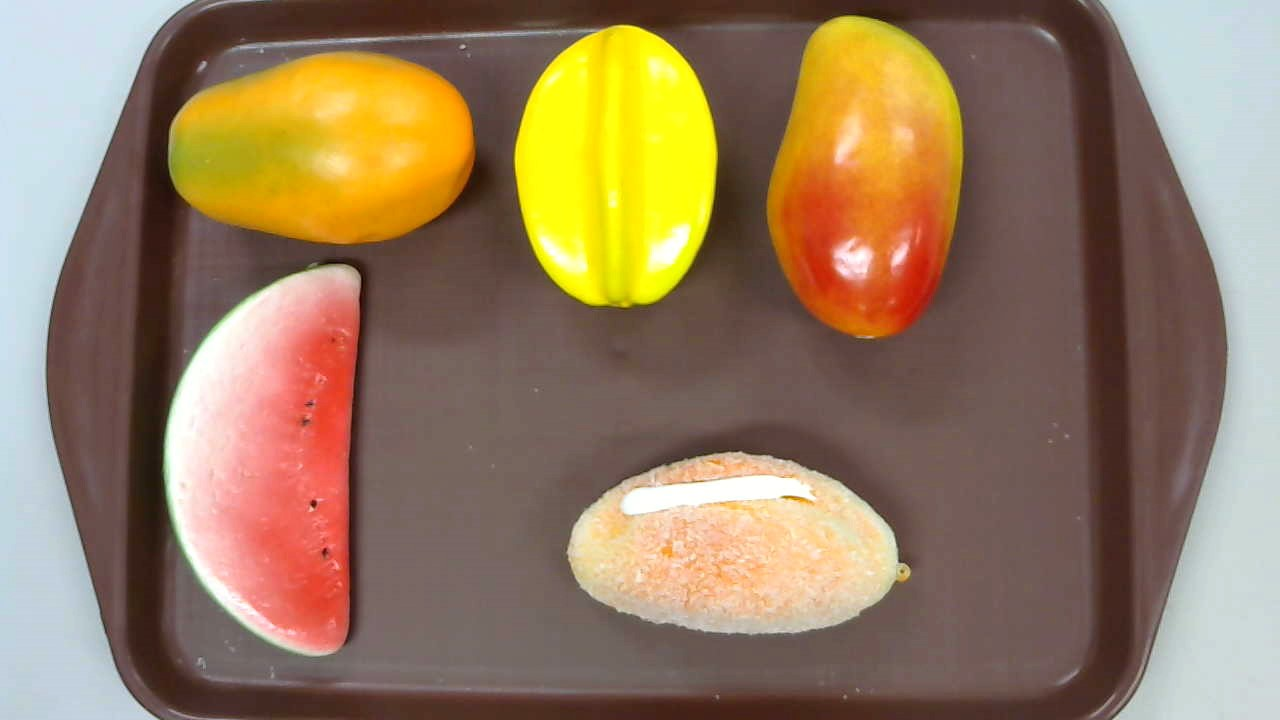coconut: (566, 450, 910, 636)
papya: (167, 51, 476, 244)
red mango: (766, 15, 964, 341)
star fruit: (513, 24, 718, 309)
water melon: (163, 262, 362, 656)
